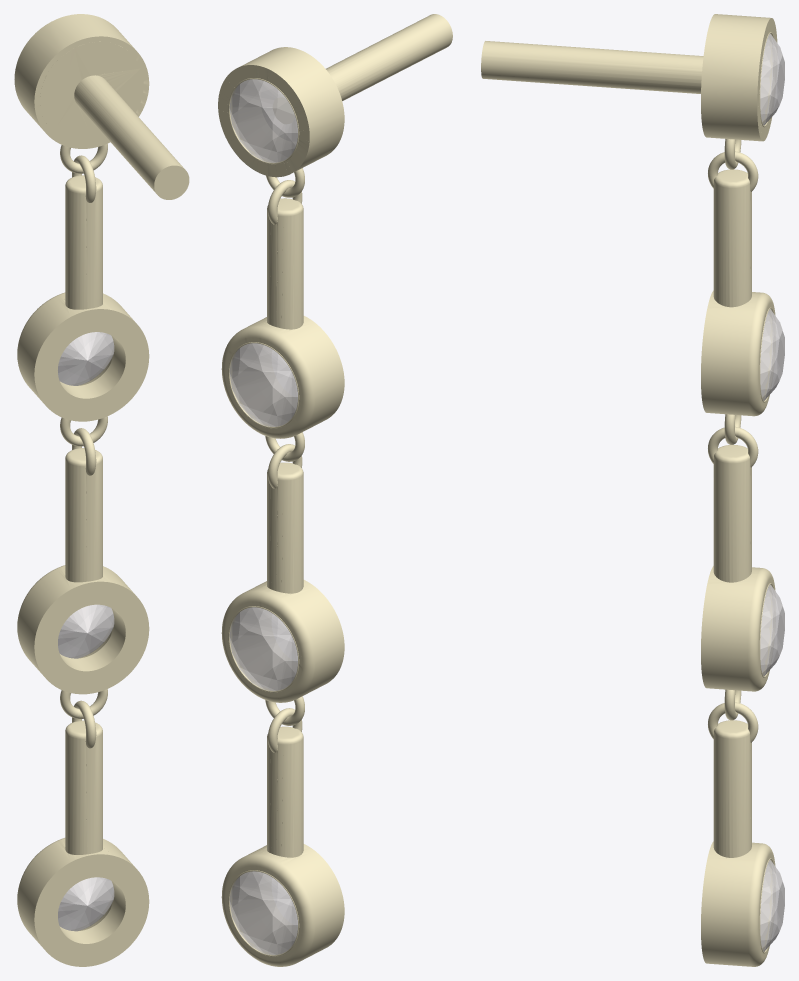
File: tall_4_diamond_earrings.fbx
3 views of the same model, side by side, from view 1: azimuth 30°, elevation 25°; view 2: azimuth 150°, elevation 25°; view 3: azimuth 270°, elevation 25° (orthographic). The views are drawn at different scales.
Parts seen in each view (by area): view 1: Object_2_WhiteMetal_0, Diamond_Round_4_Material_1_0, Diamond_Round_2_Material_1_0, Diamond_Round_3_Material_1_0; view 2: Object_2_WhiteMetal_0, Diamond_Round_Material_1_0.001, Diamond_Round_3_Material_1_0, Diamond_Round_4_Material_1_0, Diamond_Round_2_Material_1_0; view 3: Object_2_WhiteMetal_0, Diamond_Round_3_Material_1_0, Diamond_Round_Material_1_0.001, Diamond_Round_2_Material_1_0, Diamond_Round_4_Material_1_0.
Boxes of the visible parts, <box> form: Object_2_WhiteMetal_0: <box>14,14,189,966</box>; Diamond_Round_4_Material_1_0: <box>58,877,114,931</box>; Diamond_Round_2_Material_1_0: <box>58,332,114,385</box>; Diamond_Round_3_Material_1_0: <box>58,604,114,658</box>; Object_2_WhiteMetal_0: <box>218,14,452,966</box>; Diamond_Round_Material_1_0.001: <box>229,79,297,162</box>; Diamond_Round_3_Material_1_0: <box>229,607,297,691</box>; Diamond_Round_4_Material_1_0: <box>229,871,297,955</box>; Diamond_Round_2_Material_1_0: <box>229,343,297,426</box>; Object_2_WhiteMetal_0: <box>481,14,777,966</box>; Diamond_Round_3_Material_1_0: <box>760,584,784,676</box>; Diamond_Round_Material_1_0.001: <box>760,33,784,125</box>; Diamond_Round_2_Material_1_0: <box>760,309,784,400</box>; Diamond_Round_4_Material_1_0: <box>760,860,784,951</box>.
Bounding box in the file's own units: 5.68 × 44.67 × 13.11.
